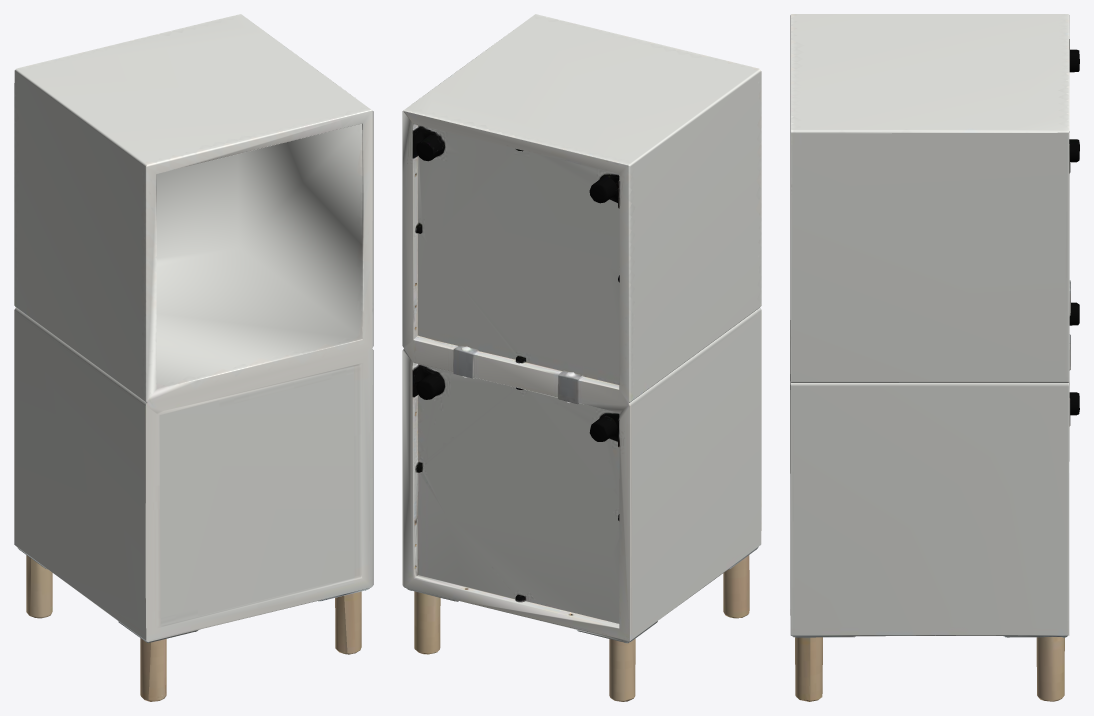
Rendered from 32 - EKET Cabinet combination with legs - whitewood 35x35x80 cm.glb.
3 renders of one model, left to right at view 1: azimuth 30°, elevation 25°; view 2: azimuth 150°, elevation 25°; view 3: azimuth 270°, elevation 25°, orthographic. The views are drawn at different scales.
Visible parts, largest first — view 1: ProcessedMeshNode; view 2: ProcessedMeshNode; view 3: ProcessedMeshNode.
Boxes of the visible parts, left/top/right/bottom form: ProcessedMeshNode: left=14, top=14, right=373, bottom=701; ProcessedMeshNode: left=402, top=14, right=761, bottom=701; ProcessedMeshNode: left=790, top=14, right=1079, bottom=701.
Bounding box in the file's own units: 0.3505 × 0.7969 × 0.3633.
Materials: 1 (1 with a texture image).
